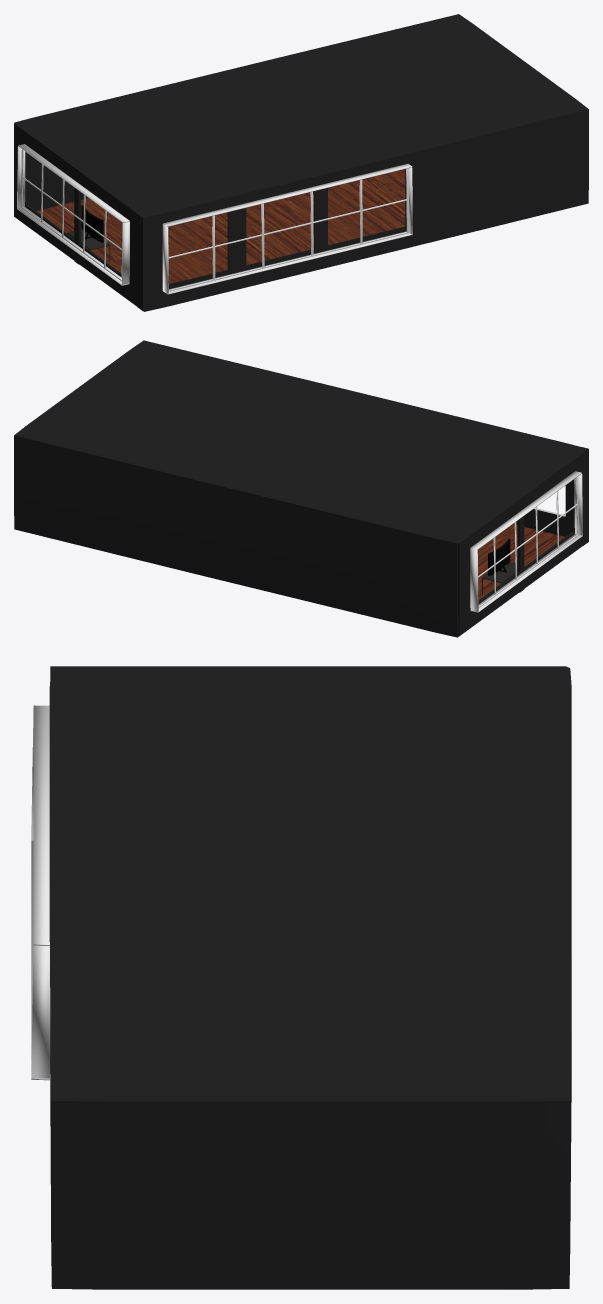
Rendered from walls.glb.
3 renders of one model, top to bottom at view 1: azimuth 30°, elevation 25°; view 2: azimuth 150°, elevation 25°; view 3: azimuth 270°, elevation 25°, orthographic. The views are drawn at different scales.
Visible parts, largest first — view 1: Room, Box2635.001, Box2635, Curved_Monitor; view 2: Room, Box2635, Curved_Monitor; view 3: Room, Box2635.001.
Boxes of the visible parts, box(x1,y1,x2,y2) form: Room: box(14, 14, 588, 311); Box2635.001: box(162, 163, 412, 294); Box2635: box(17, 144, 129, 285); Curved_Monitor: box(81, 205, 103, 242); Room: box(14, 340, 588, 637); Box2635: box(470, 471, 582, 612); Curved_Monitor: box(487, 538, 510, 575); Room: box(49, 666, 571, 1289); Box2635.001: box(31, 705, 50, 1080).
Size of the model in its own units: 20.45 by 4.11 by 10.56.
Materials: 5 (2 with a texture image).
